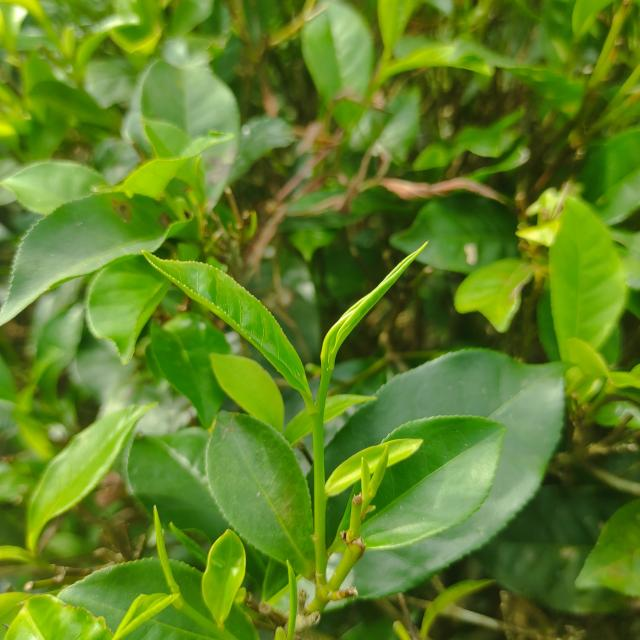unopened_leaf: (314, 234, 435, 380), (148, 502, 186, 600), (277, 552, 306, 640), (361, 441, 394, 507), (167, 516, 211, 564), (356, 456, 373, 513)
